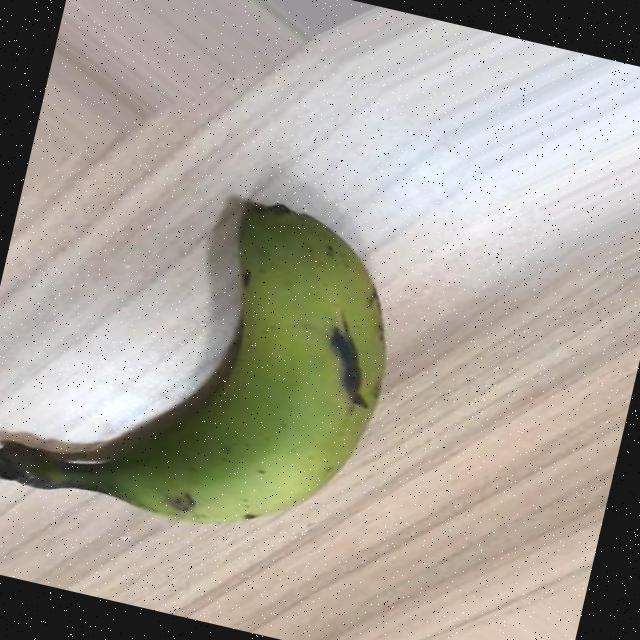Unripe: (0, 148, 417, 559)
